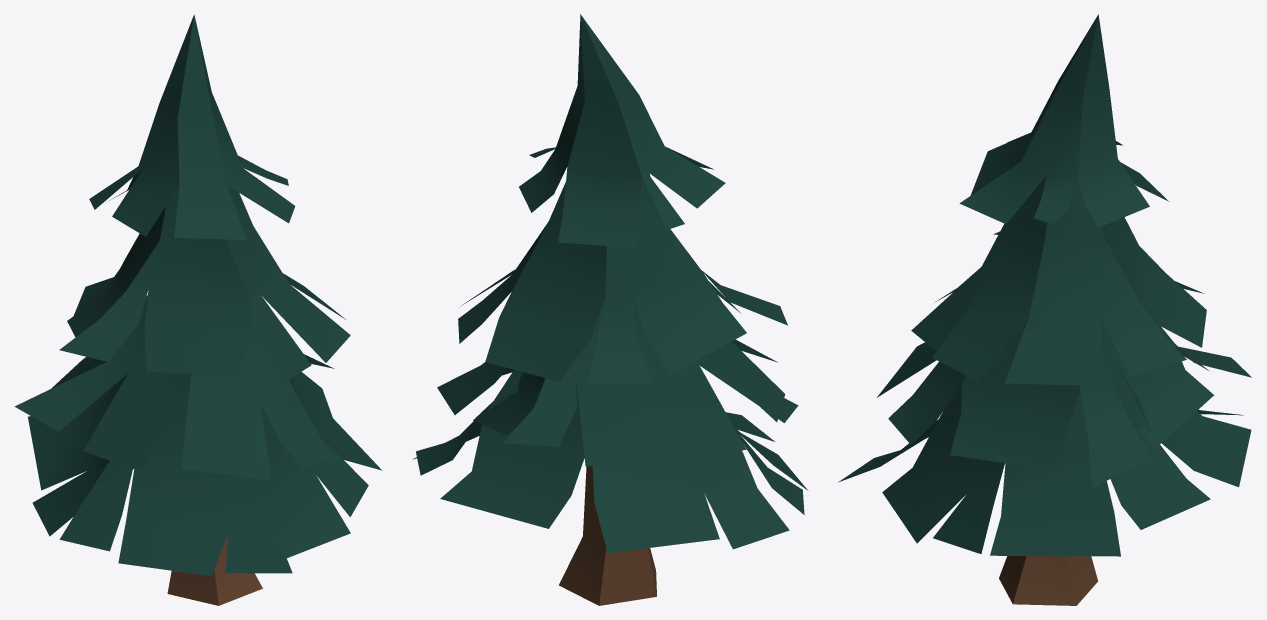
The picture shows the model from 3 angles, left to right: view 1: azimuth 30°, elevation 25°; view 2: azimuth 150°, elevation 25°; view 3: azimuth 270°, elevation 25°; orthographic projection. The views are drawn at different scales.
Visible parts, largest first — view 1: mff_tree_pine_0; view 2: mff_tree_pine_0; view 3: mff_tree_pine_0.
Part boxes in pixels (x1,y1,x2,y2): mff_tree_pine_0: [14, 14, 381, 605]; mff_tree_pine_0: [412, 14, 808, 605]; mff_tree_pine_0: [838, 14, 1251, 605].
Bounding box in the file's own units: 2.73 × 4.31 × 2.82.
1 material, 1 textured.
